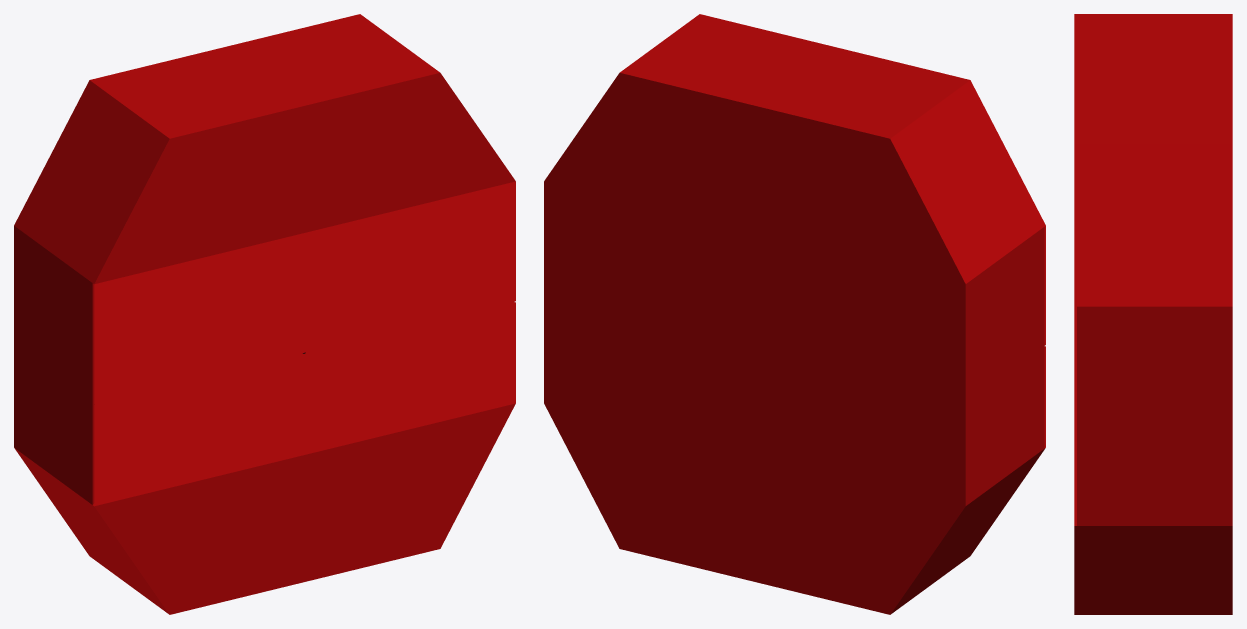
The model's file is Robot Turret.fbx.
The picture shows the model from 3 angles, left to right: view 1: azimuth 30°, elevation 25°; view 2: azimuth 150°, elevation 25°; view 3: azimuth 270°, elevation 25°; orthographic projection.
Visible parts, largest first — view 1: Cube; view 2: Cube; view 3: Cube.
Boxes of the visible parts, x1=… form: Cube: x1=14, y1=14, x2=515, y2=614; Cube: x1=544, y1=14, x2=1045, y2=614; Cube: x1=1074, y1=14, x2=1232, y2=614.
Size of the model in its own units: 398 by 429 by 131.
